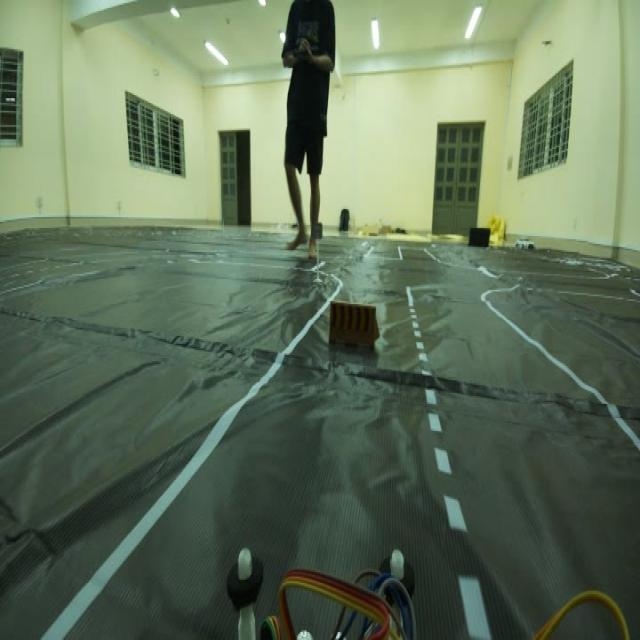roadblock: (326, 294, 383, 362)
